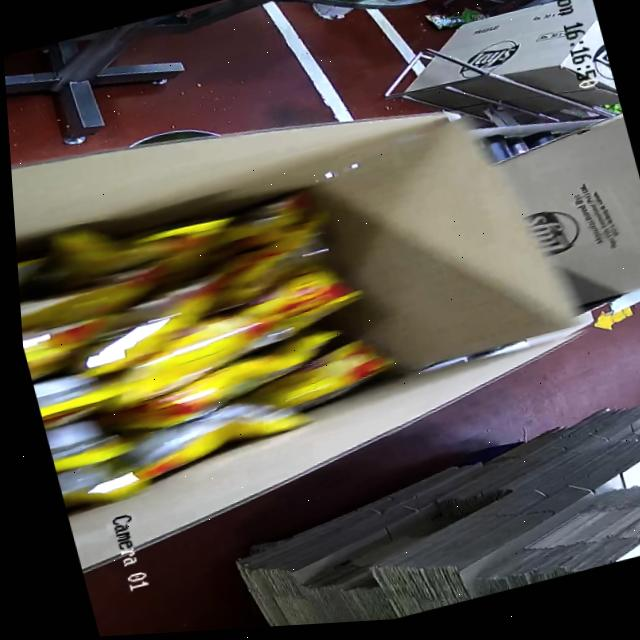SALTED: (11, 143, 409, 539)
